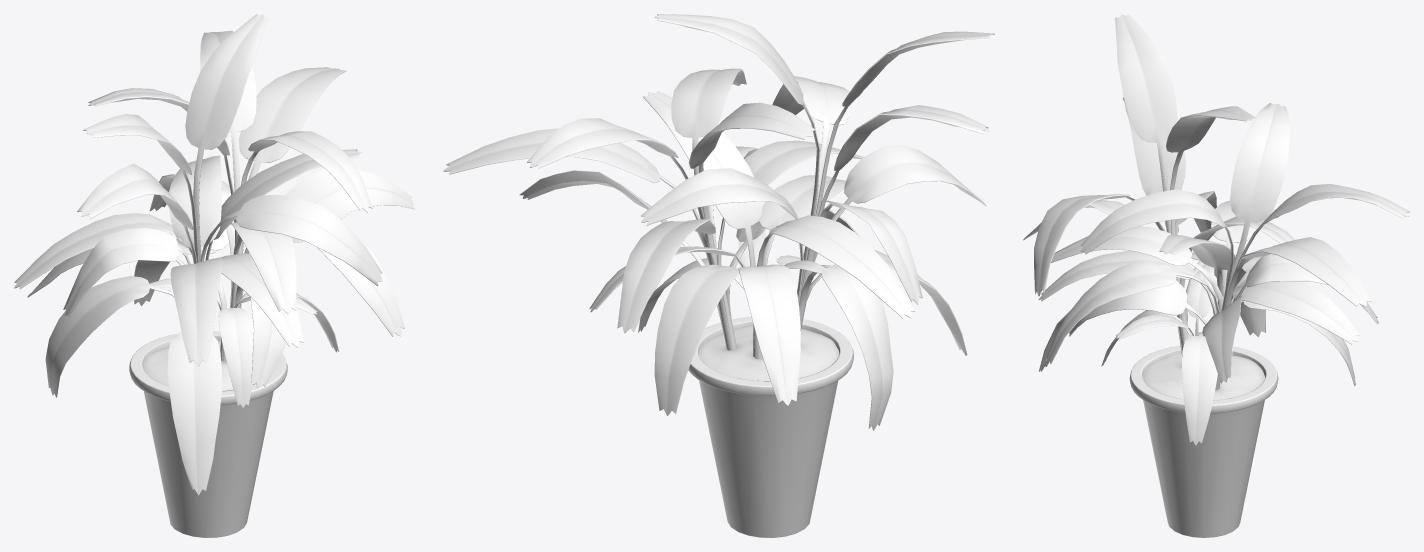
The model's file is ArecaPalm.glb.
3 renders of one model, left to right at view 1: azimuth 30°, elevation 25°; view 2: azimuth 150°, elevation 25°; view 3: azimuth 270°, elevation 25°, orthographic. The views are drawn at different scales.
Visible parts, largest first — view 1: node_id217; view 2: node_id217; view 3: node_id217.
Boxes of the visible parts, x1=… form: node_id217: x1=14, y1=14, x2=414, y2=537; node_id217: x1=443, y1=14, x2=994, y2=537; node_id217: x1=1023, y1=14, x2=1409, y2=537.
Size of the model in its own units: 0.44 by 0.512 by 0.4072.
Materials: 1 (1 with a texture image).
